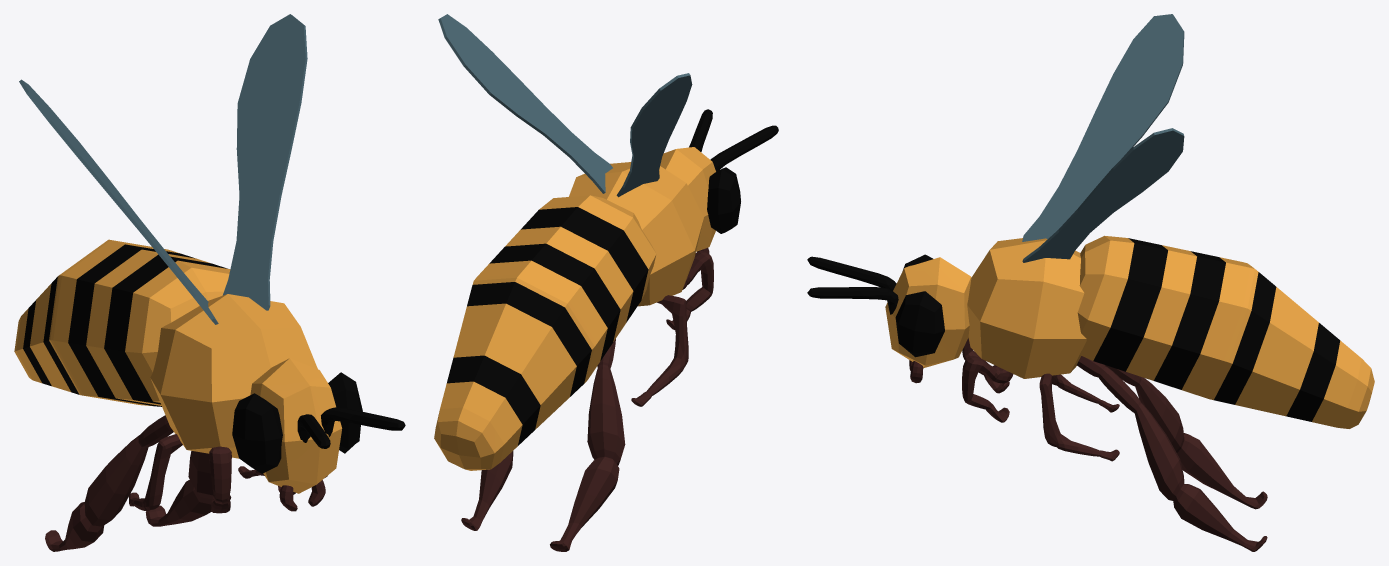
3 views of the same model, side by side, from view 1: azimuth 30°, elevation 25°; view 2: azimuth 150°, elevation 25°; view 3: azimuth 270°, elevation 25° (orthographic). The views are drawn at different scales.
Visible parts, largest first — view 1: Cube.002, Plane, Cube, Cube.005, Cube.001, Cube.007, Cube.004, Cube.003, Cube.008; view 2: Cube.002, Plane, Cube, Cube.005, Cube.007, Cube.001, Cube.004, Cube.003; view 3: Cube.002, Plane, Cube, Cube.005, Cube.007, Cube.001, Cube.004, Cube.003.
Part boxes in pixels (left/top/right/bottom): Cube.002: left=14, top=239, right=230, bottom=406; Plane: left=19, top=14, right=307, bottom=324; Cube: left=150, top=294, right=317, bottom=458; Cube.005: left=45, top=415, right=213, bottom=551; Cube.001: left=250, top=358, right=342, bottom=493; Cube.007: left=232, top=372, right=405, bottom=473; Cube.004: left=129, top=434, right=264, bottom=510; Cube.003: left=209, top=446, right=327, bottom=513; Cube.008: left=279, top=480, right=325, bottom=511; Cube.002: left=434, top=195, right=656, bottom=470; Plane: left=438, top=14, right=692, bottom=197; Cube: left=569, top=162, right=703, bottom=306; Cube.005: left=461, top=339, right=625, bottom=551; Cube.007: left=689, top=109, right=778, bottom=233; Cube.001: left=660, top=147, right=715, bottom=251; Cube.004: left=631, top=295, right=688, bottom=406; Cube.003: left=666, top=251, right=713, bottom=329; Cube.002: left=1077, top=235, right=1374, bottom=428; Plane: left=1022, top=14, right=1184, bottom=262; Cube: left=967, top=238, right=1086, bottom=378; Cube.005: left=1077, top=356, right=1267, bottom=551; Cube.007: left=807, top=254, right=944, bottom=357; Cube.001: left=885, top=257, right=971, bottom=368; Cube.004: left=1039, top=373, right=1119, bottom=461; Cube.003: left=962, top=338, right=1013, bottom=422.
Size of the model in its own units: 1.94 by 3.5 by 3.93.
